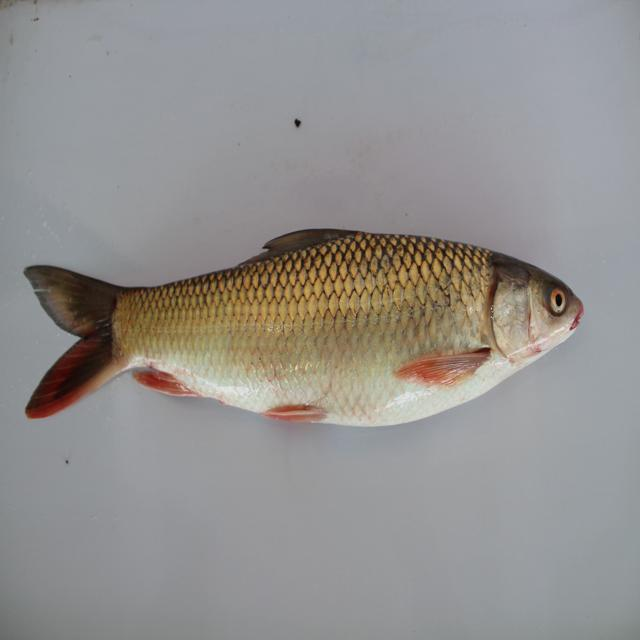Grass Carp: (26, 222, 581, 442)
